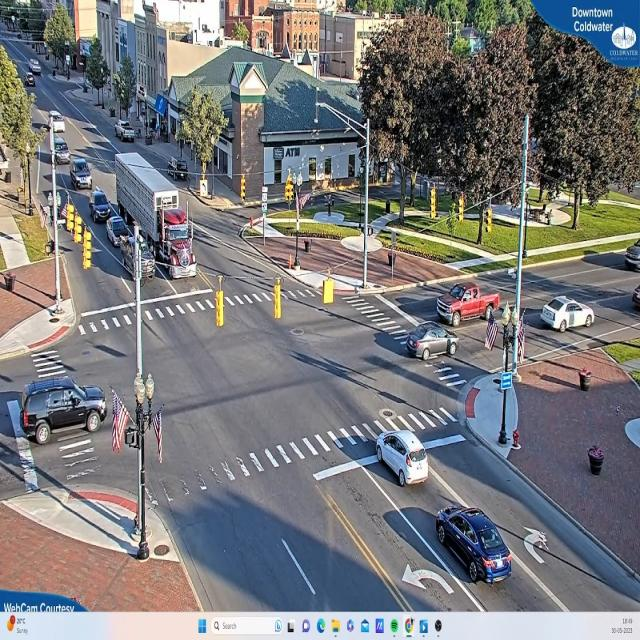car: (434, 508, 513, 588), (16, 380, 108, 444), (375, 428, 430, 487), (437, 286, 501, 327), (527, 296, 594, 334), (405, 320, 460, 360), (109, 217, 136, 246), (73, 160, 93, 188), (116, 123, 137, 143)
